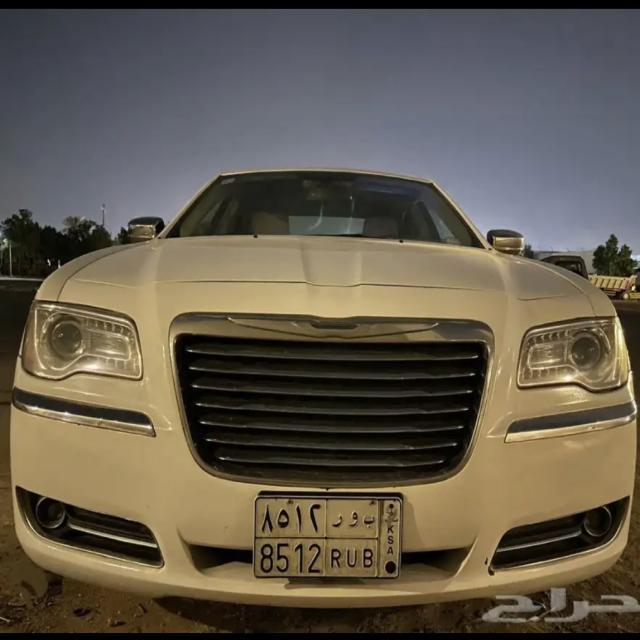license_plate: (257, 494, 403, 585)
